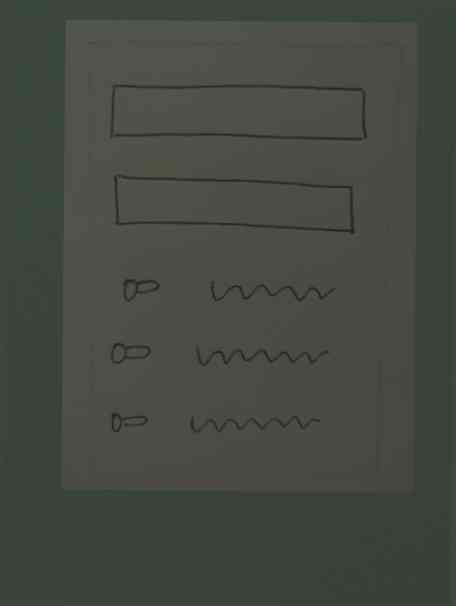switch: (105, 330, 155, 369), (116, 272, 167, 310), (103, 404, 154, 442)
text: (201, 273, 341, 315), (192, 330, 332, 372), (184, 399, 324, 440)
text_input: (104, 74, 374, 153), (104, 170, 365, 240)
